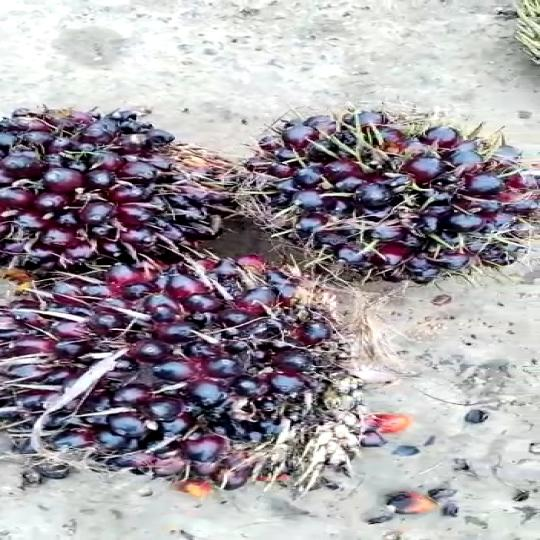mentah: (0, 264, 387, 506), (246, 100, 540, 283), (0, 86, 253, 276)
